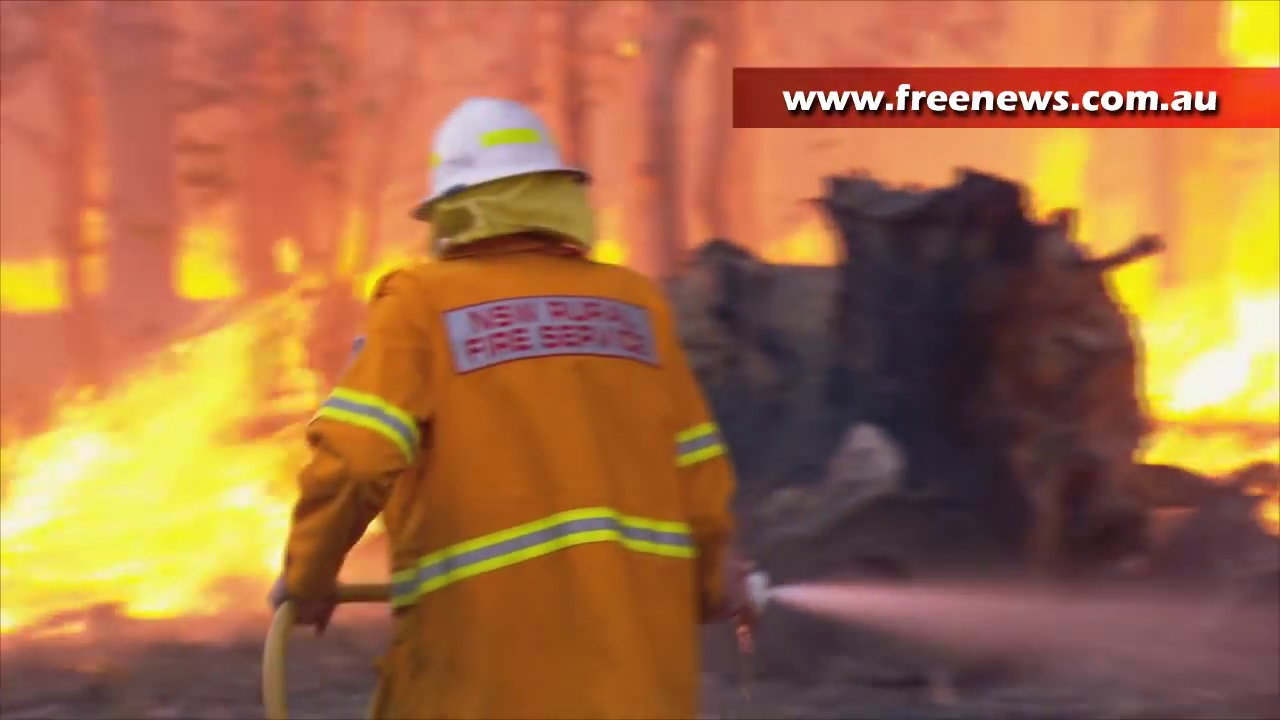fire: (1, 325, 299, 630), (1136, 213, 1280, 471)
